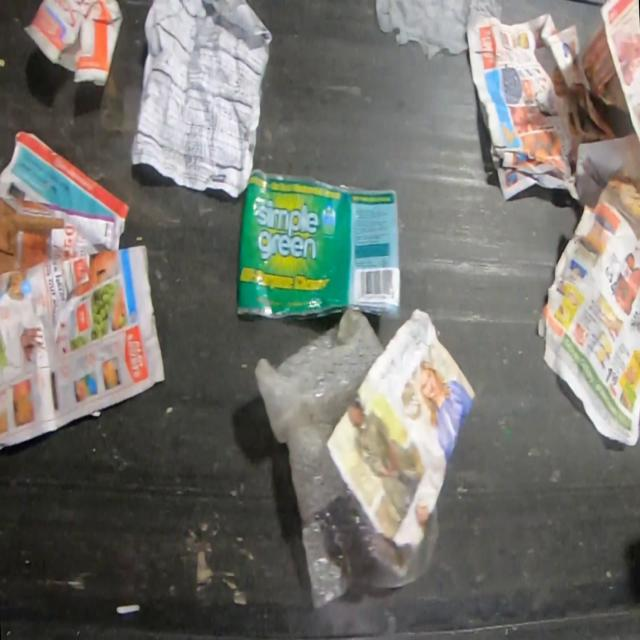rigid_plastic: (21, 0, 124, 88)
soft_plastic: (253, 311, 437, 610), (235, 168, 407, 321)
